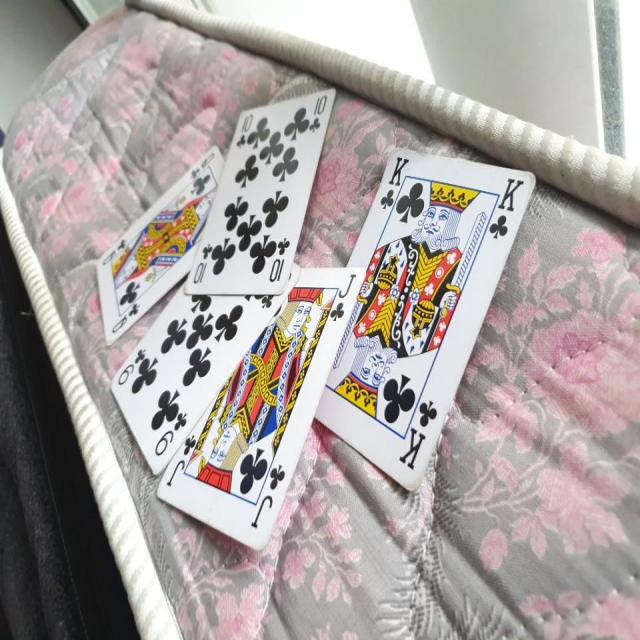10 Trefoils: (179, 84, 338, 298)
9 Trefoils: (110, 260, 304, 476)
J Trefoils: (154, 265, 367, 550)
K Trefoils: (316, 142, 538, 494)
Q Trefoils: (96, 141, 227, 346)
